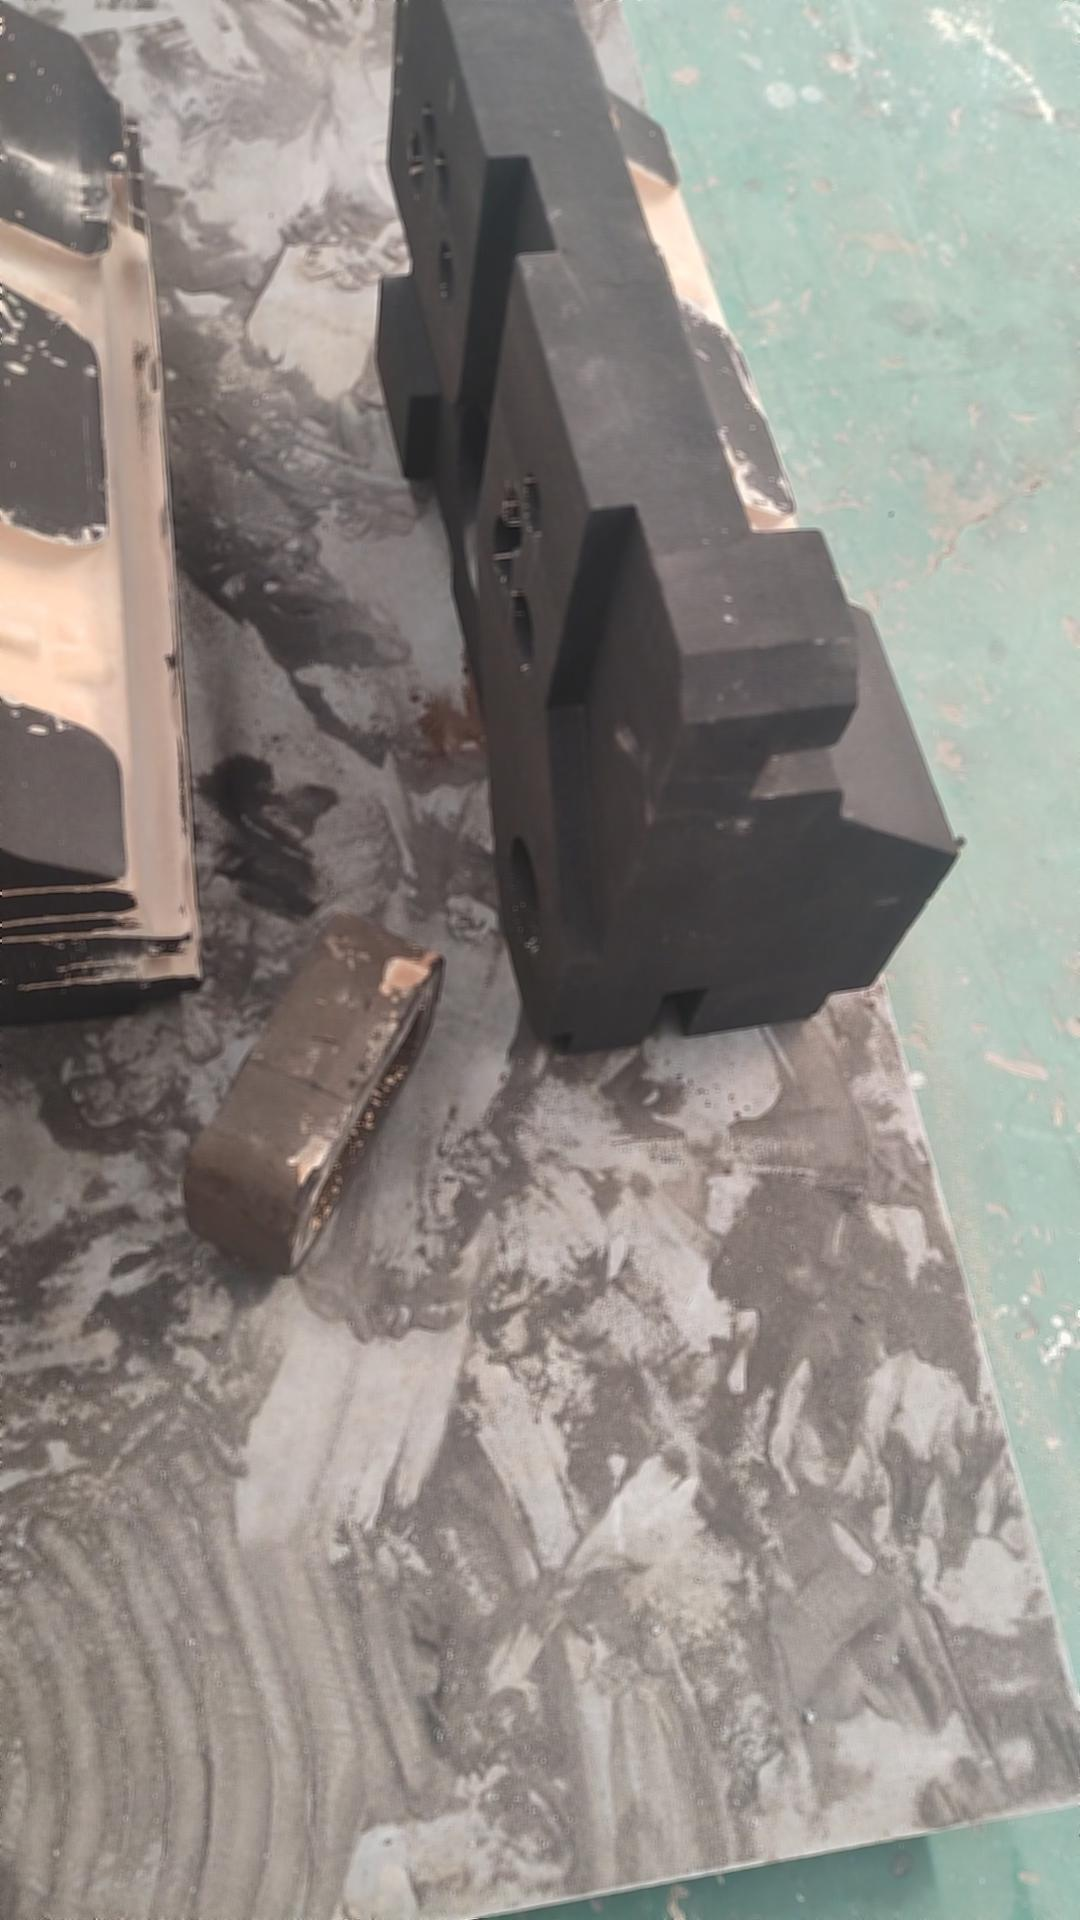pouring hole: (506, 835, 542, 960)
